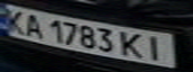1: (42, 16, 66, 44)
3: (93, 25, 118, 54)
7: (57, 19, 81, 47)
8: (78, 22, 96, 51)
A: (21, 11, 48, 38)
I: (139, 33, 172, 63)
K: (118, 29, 148, 60), (0, 6, 30, 34)
